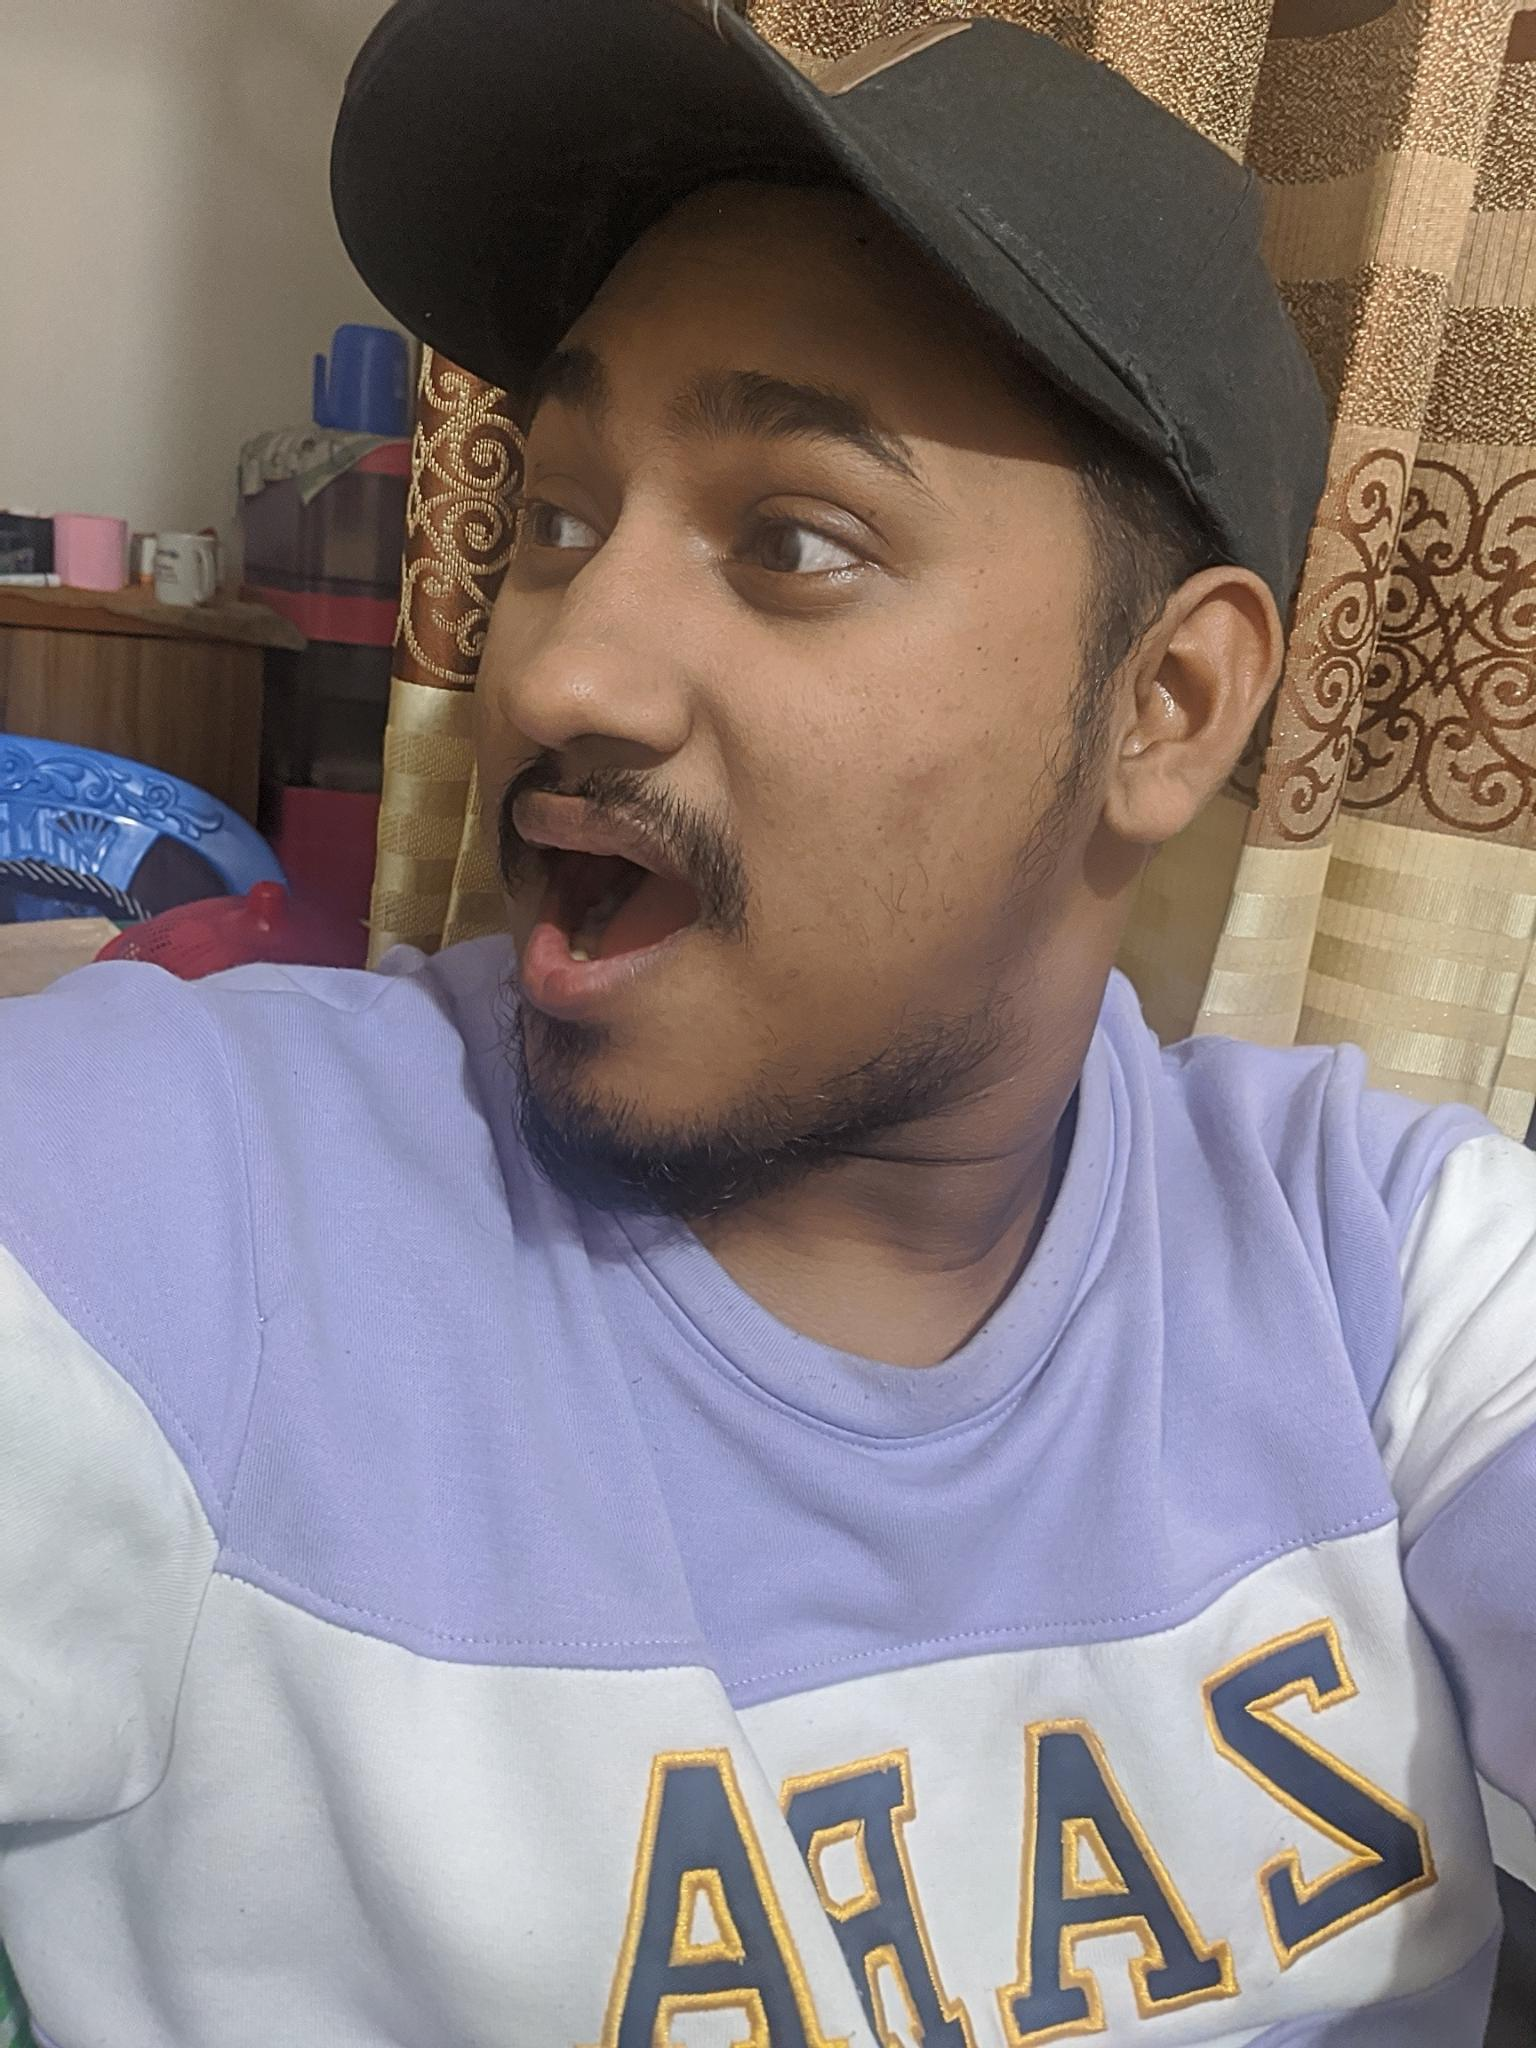Surprise: (365, 245, 1015, 1193)
